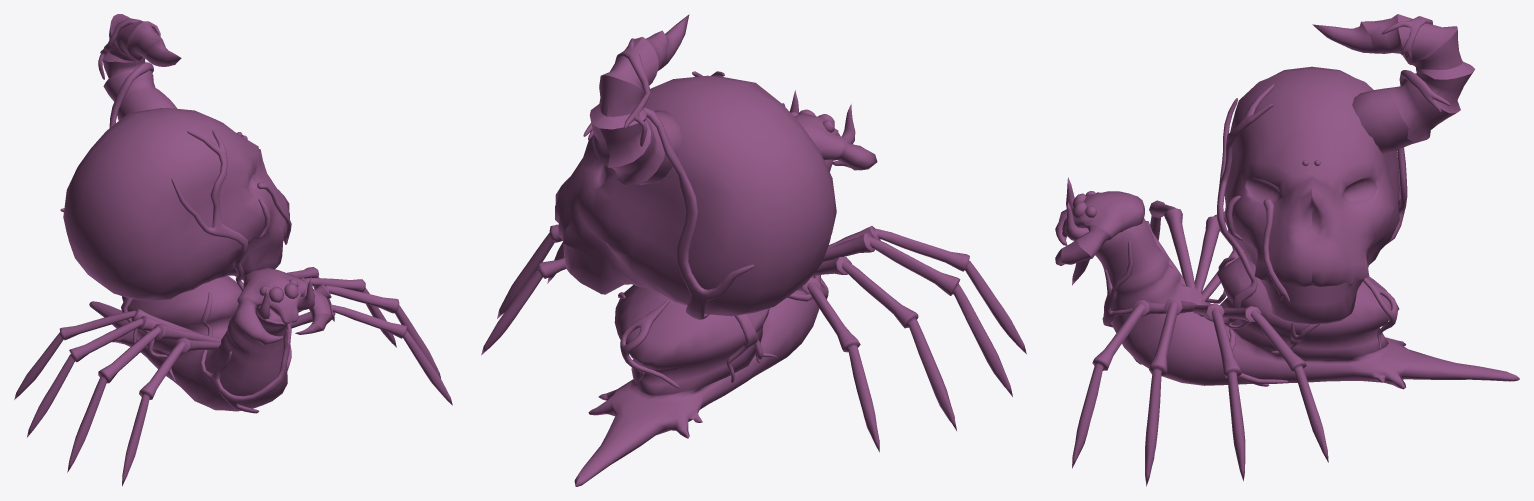
Rendered from Snailder.fbx.
The picture shows the model from 3 angles, left to right: view 1: azimuth 30°, elevation 25°; view 2: azimuth 150°, elevation 25°; view 3: azimuth 270°, elevation 25°; orthographic projection. The views are drawn at different scales.
Visible parts, largest first — view 1: headB_low, body_low, vein_low, horn_low, leg02_low, head_low, leg01_low, leg03_low, leg04_low, eyes_low; view 2: headB_low, body_low, horn_low, vein_low, leg03_low, leg04_low, leg02_low, leg01_low, head_low; view 3: headB_low, body_low, horn_low, vein_low, leg02_low, head_low, leg03_low, leg01_low, leg04_low.
Boxes of the visible parts, <box> form: headB_low: <box>63,107,289,300</box>; body_low: <box>89,276,314,411</box>; vein_low: <box>60,18,291,413</box>; horn_low: <box>103,14,181,120</box>; leg02_low: <box>67,284,440,472</box>; head_low: <box>232,268,332,344</box>; leg01_low: <box>122,304,452,486</box>; leg03_low: <box>27,277,396,437</box>; leg04_low: <box>14,267,334,399</box>; eyes_low: <box>259,279,298,302</box>; headB_low: <box>555,75,836,316</box>; body_low: <box>574,90,855,486</box>; horn_low: <box>589,14,689,184</box>; vein_low: <box>583,38,828,388</box>; leg03_low: <box>497,224,956,430</box>; leg04_low: <box>481,258,879,452</box>; leg02_low: <box>547,233,1012,396</box>; leg01_low: <box>827,226,1026,354</box>; head_low: <box>794,113,877,170</box>; headB_low: <box>1224,66,1399,324</box>; body_low: <box>1066,177,1519,389</box>; horn_low: <box>1312,14,1474,154</box>; vein_low: <box>1102,16,1462,386</box>; leg02_low: <box>1145,200,1196,486</box>; head_low: <box>1055,191,1144,265</box>; leg03_low: <box>1193,210,1245,481</box>; leg01_low: <box>1072,221,1185,468</box>; leg04_low: <box>1198,249,1328,462</box>.
Size of the model in its own units: 120 by 100 by 114.
